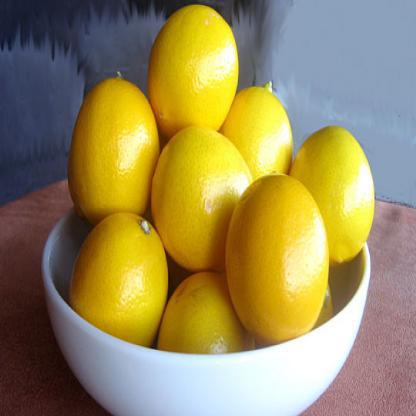lemon: (223, 170, 329, 346), (64, 67, 162, 230), (148, 124, 254, 274), (67, 208, 171, 355), (145, 0, 240, 142), (288, 122, 379, 267), (218, 82, 298, 185)
